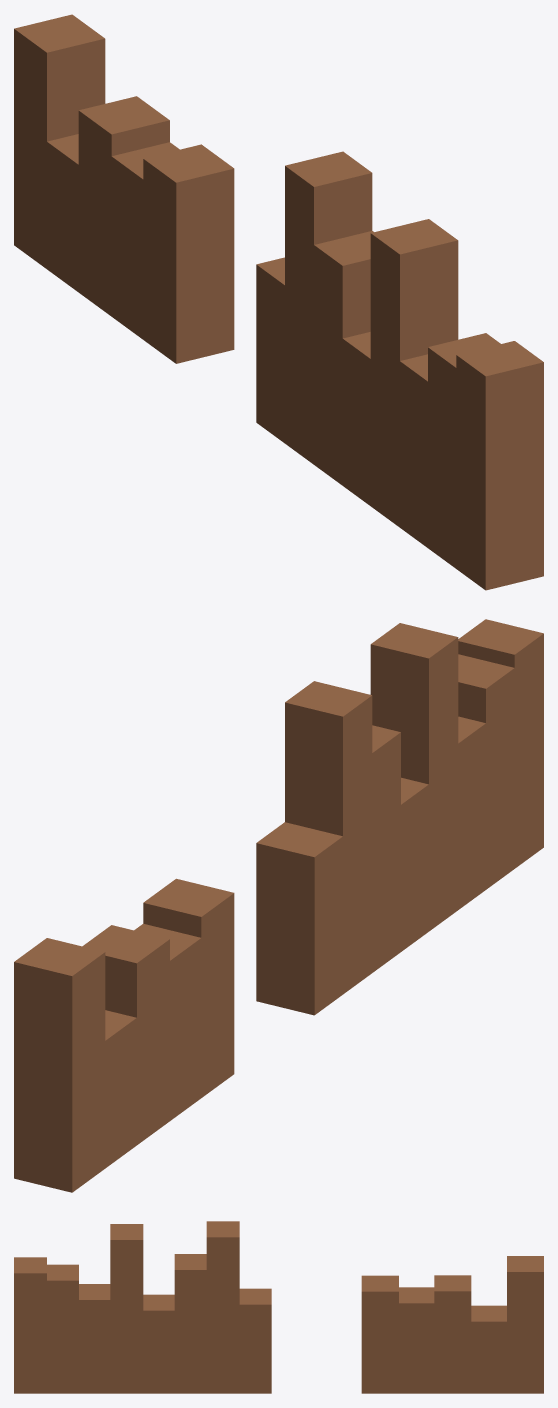
The model's file is parede_dir.glb.
The picture shows the model from 3 angles, top to bottom: view 1: azimuth 30°, elevation 25°; view 2: azimuth 150°, elevation 25°; view 3: azimuth 270°, elevation 25°; orthographic projection. The views are drawn at different scales.
Visible parts, largest first — view 1: parede_dir; view 2: parede_dir; view 3: parede_dir.
Part boxes in pixels (bbox=[...]): parede_dir: bbox=[14, 14, 543, 590]; parede_dir: bbox=[14, 619, 543, 1192]; parede_dir: bbox=[14, 1221, 543, 1393].
Bounding box in the file's own units: 0.5 × 2.28 × 7.01.
